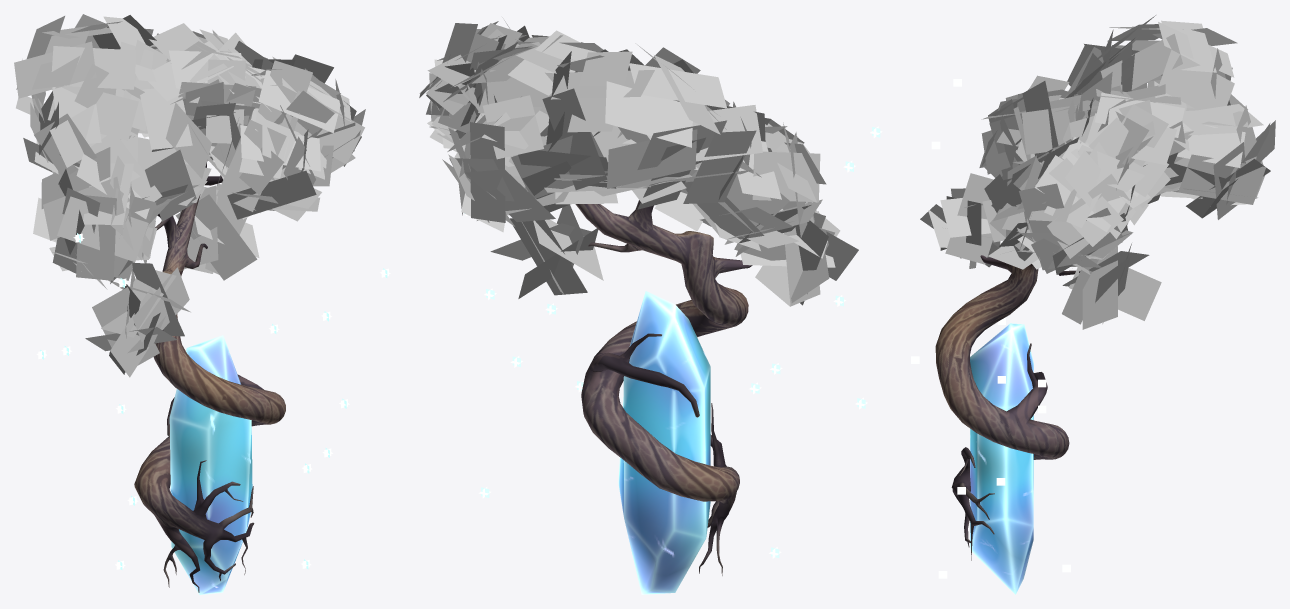
The picture shows the model from 3 angles, left to right: view 1: azimuth 30°, elevation 25°; view 2: azimuth 150°, elevation 25°; view 3: azimuth 270°, elevation 25°; orthographic projection. The views are drawn at different scales.
Visible parts, largest first — view 1: Folliage_LP_Folliage_0, Tronc_LP_Tronc & Crystal_0, Crystal_LP_Tronc & Crystal_0, Particles_Particles_0; view 2: Folliage_LP_Folliage_0, Tronc_LP_Tronc & Crystal_0, Crystal_LP_Tronc & Crystal_0, Particles_Particles_0; view 3: Folliage_LP_Folliage_0, Tronc_LP_Tronc & Crystal_0, Crystal_LP_Tronc & Crystal_0, Particles_Particles_0.
Part boxes in pixels (x1,y1,x2,y2): Folliage_LP_Folliage_0: (14,14,365,377); Tronc_LP_Tronc & Crystal_0: (134,161,285,592); Crystal_LP_Tronc & Crystal_0: (169,335,252,594); Particles_Particles_0: (36,233,390,569); Folliage_LP_Folliage_0: (419,17,858,306); Tronc_LP_Tronc & Crystal_0: (575,200,752,575); Crystal_LP_Tronc & Crystal_0: (618,291,710,594); Particles_Particles_0: (464,126,882,558); Folliage_LP_Folliage_0: (920,15,1275,329); Tronc_LP_Tronc & Crystal_0: (935,255,1080,560); Crystal_LP_Tronc & Crystal_0: (970,323,1033,594); Particles_Particles_0: (911,79,1070,578).
Size of the model in its own units: 0.9323 by 1.41 by 0.8579.
